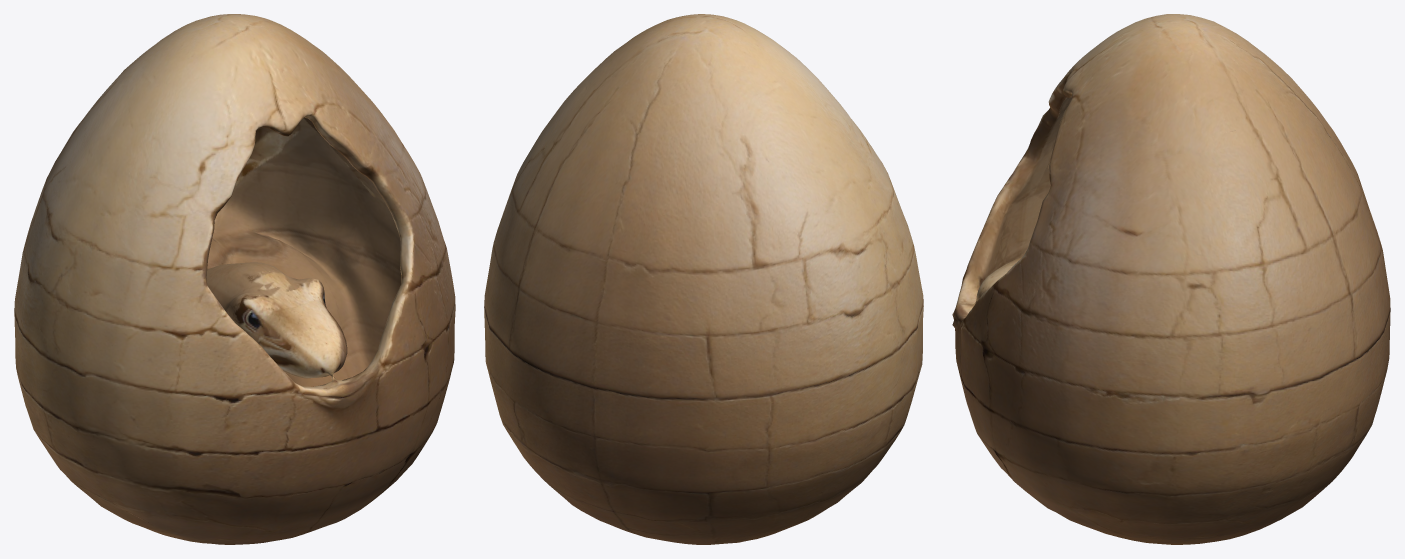
Rendered from dinosauro3d.glb.
3 renders of one model, left to right at view 1: azimuth 30°, elevation 25°; view 2: azimuth 150°, elevation 25°; view 3: azimuth 270°, elevation 25°, orthographic.
Size of the model in its own units: 1.6 by 1.99 by 1.58.
1 material, 1 textured.
